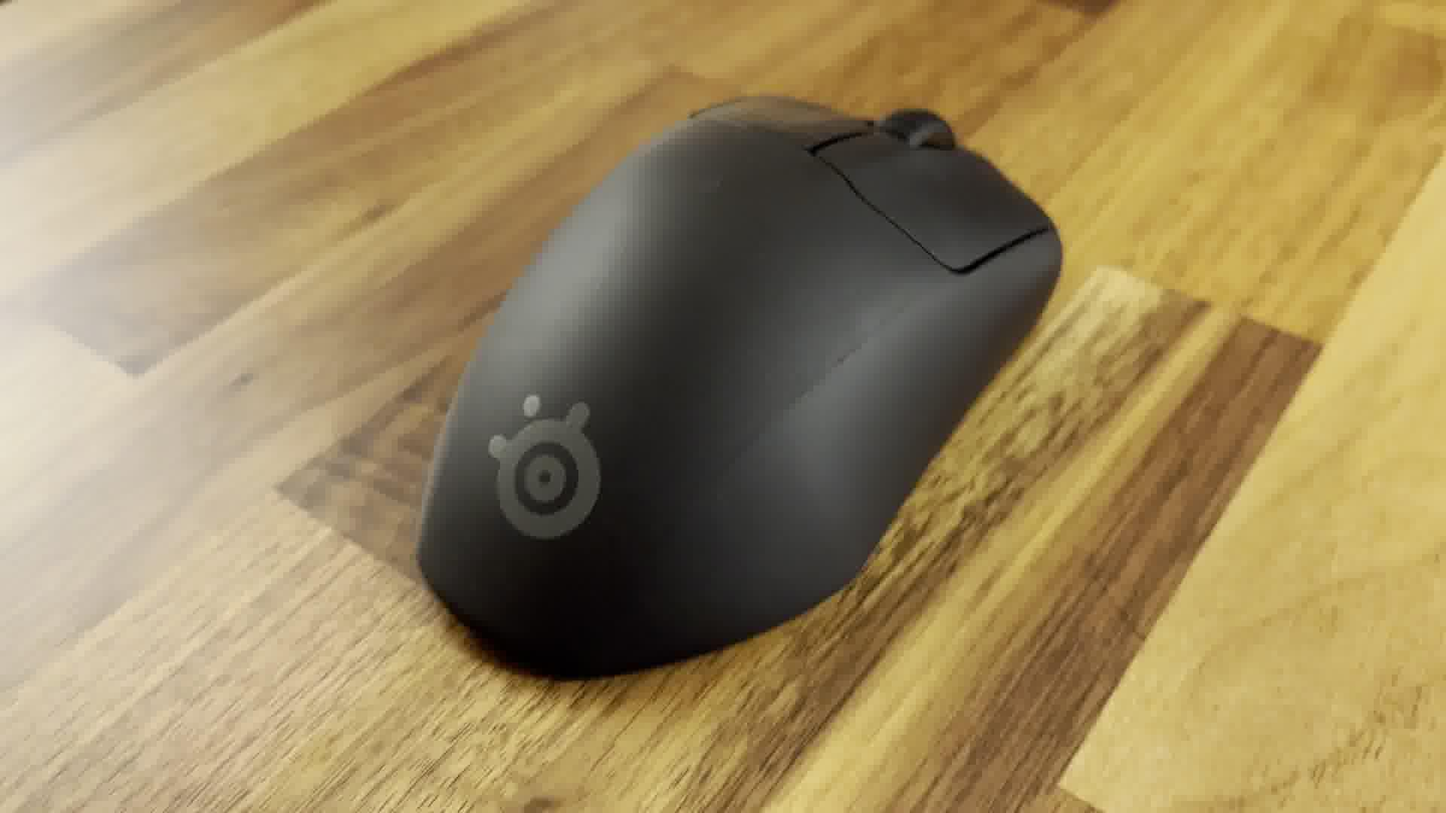mouse: (413, 80, 1071, 682)
